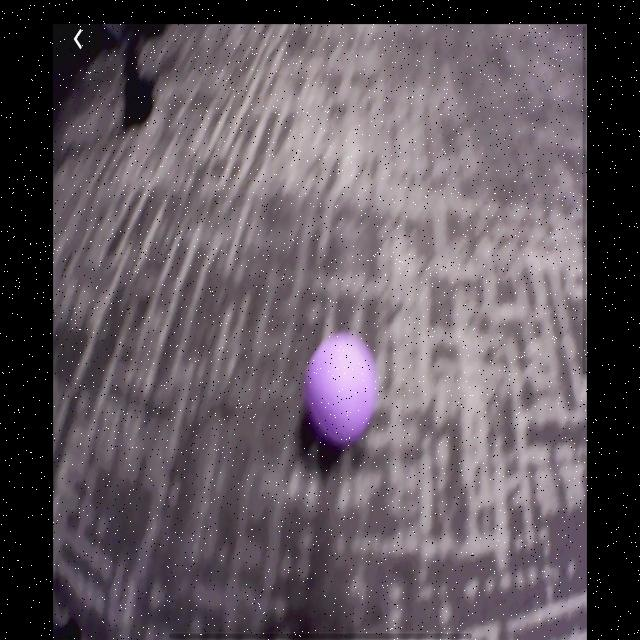ball: (303, 331, 380, 448)
